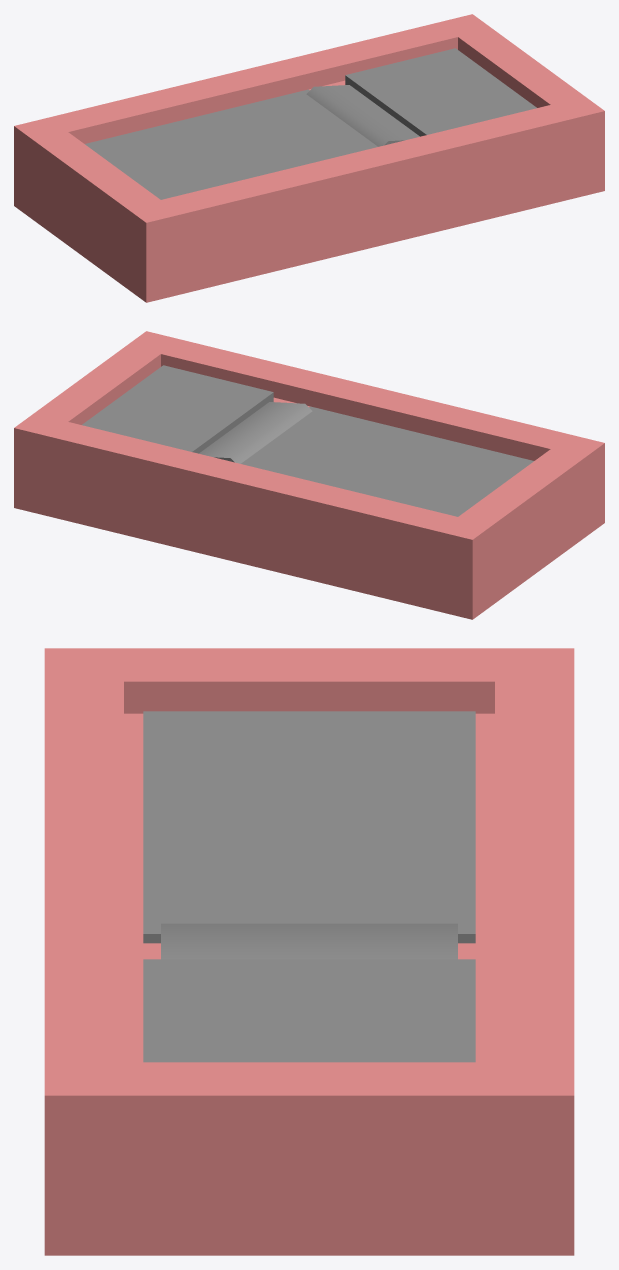
Rendered from SM_RemoteController_2x1x1s.gltf.
3 renders of one model, top to bottom at view 1: azimuth 30°, elevation 25°; view 2: azimuth 150°, elevation 25°; view 3: azimuth 270°, elevation 25°, orthographic. The views are drawn at different scales.
Visible parts, largest first — view 1: SM_RemoteController_2x1x1s; view 2: SM_RemoteController_2x1x1s; view 3: SM_RemoteController_2x1x1s.
Part boxes in pixels (x1,y1,x2,y2): SM_RemoteController_2x1x1s: (14, 14, 604, 302); SM_RemoteController_2x1x1s: (14, 331, 604, 619); SM_RemoteController_2x1x1s: (44, 648, 574, 1255).
Size of the model in its own units: 0.6 by 0.1 by 0.3.
